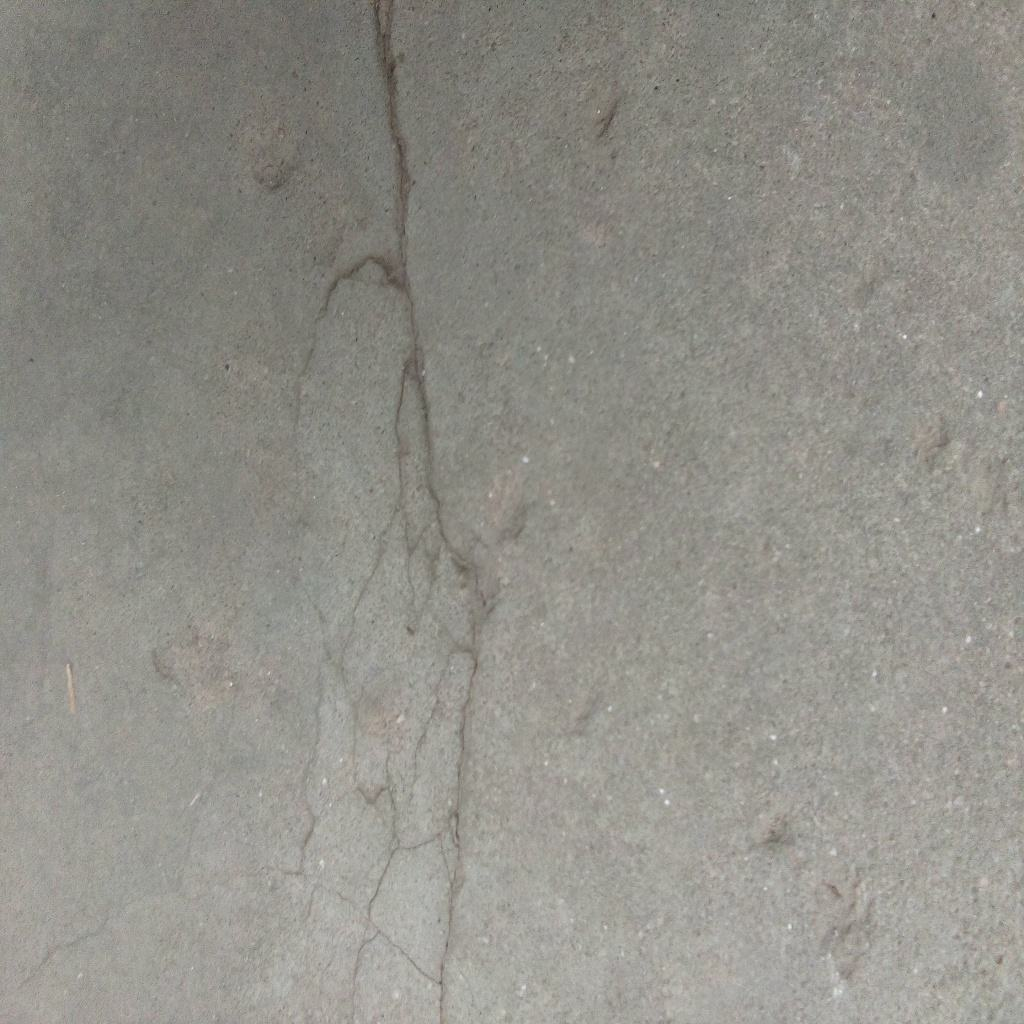Crack: (306, 1, 483, 1024)
